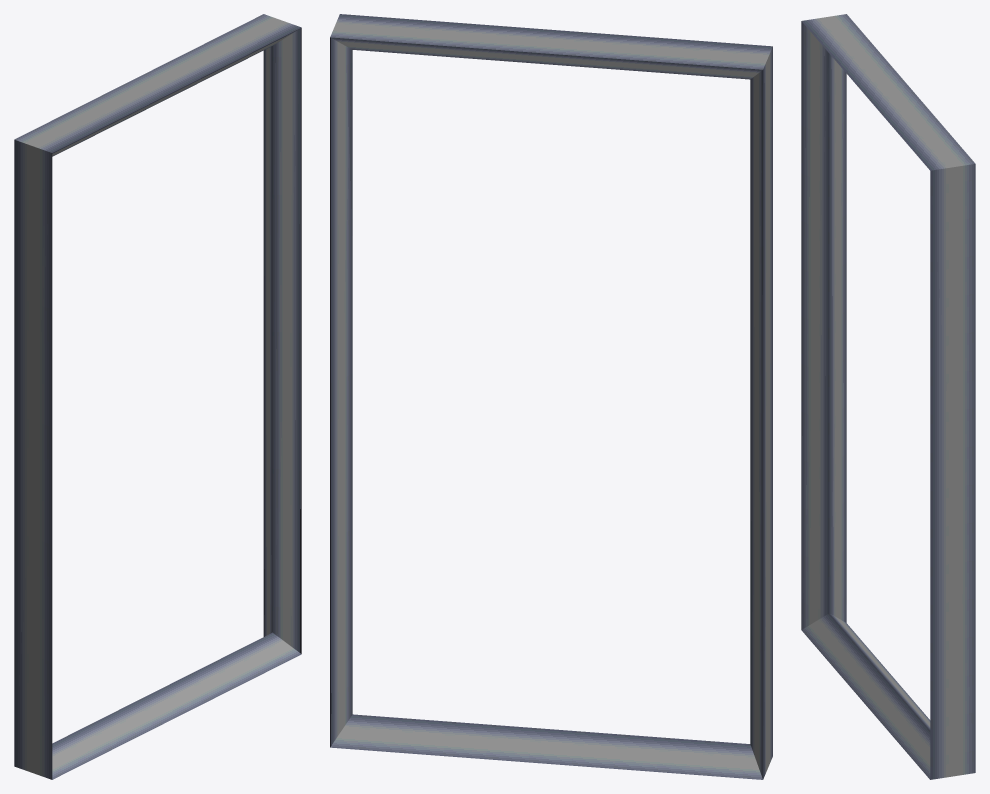
The model's file is primary_119.glb.
3 renders of one model, left to right at view 1: azimuth 30°, elevation 25°; view 2: azimuth 150°, elevation 25°; view 3: azimuth 270°, elevation 25°, orthographic. The views are drawn at different scales.
Parts seen in each view (by area): view 1: Object; view 2: Object; view 3: Object.
Boxes of the visible parts, x1,y1,x2,y2 form: Object: [14, 14, 301, 779]; Object: [330, 14, 772, 779]; Object: [801, 14, 975, 779].
Bounding box in the file's own units: 1.18 × 2.13 × 0.5522.
Materials: 1 (1 with a texture image).
